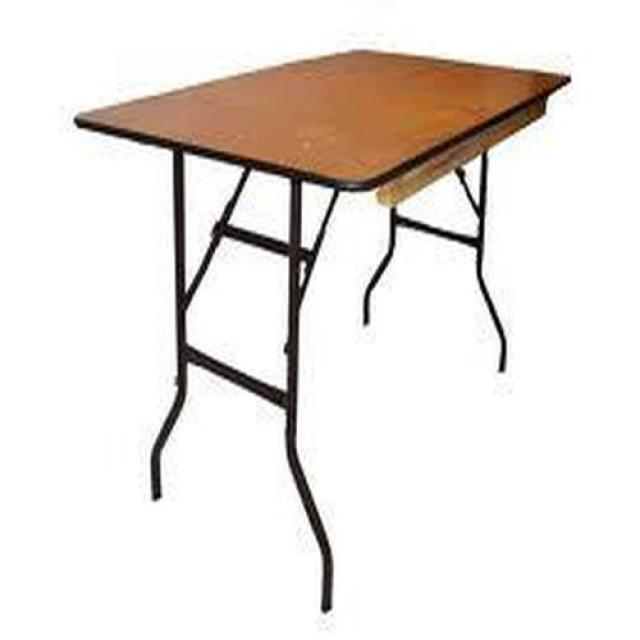table: (73, 50, 571, 616)
